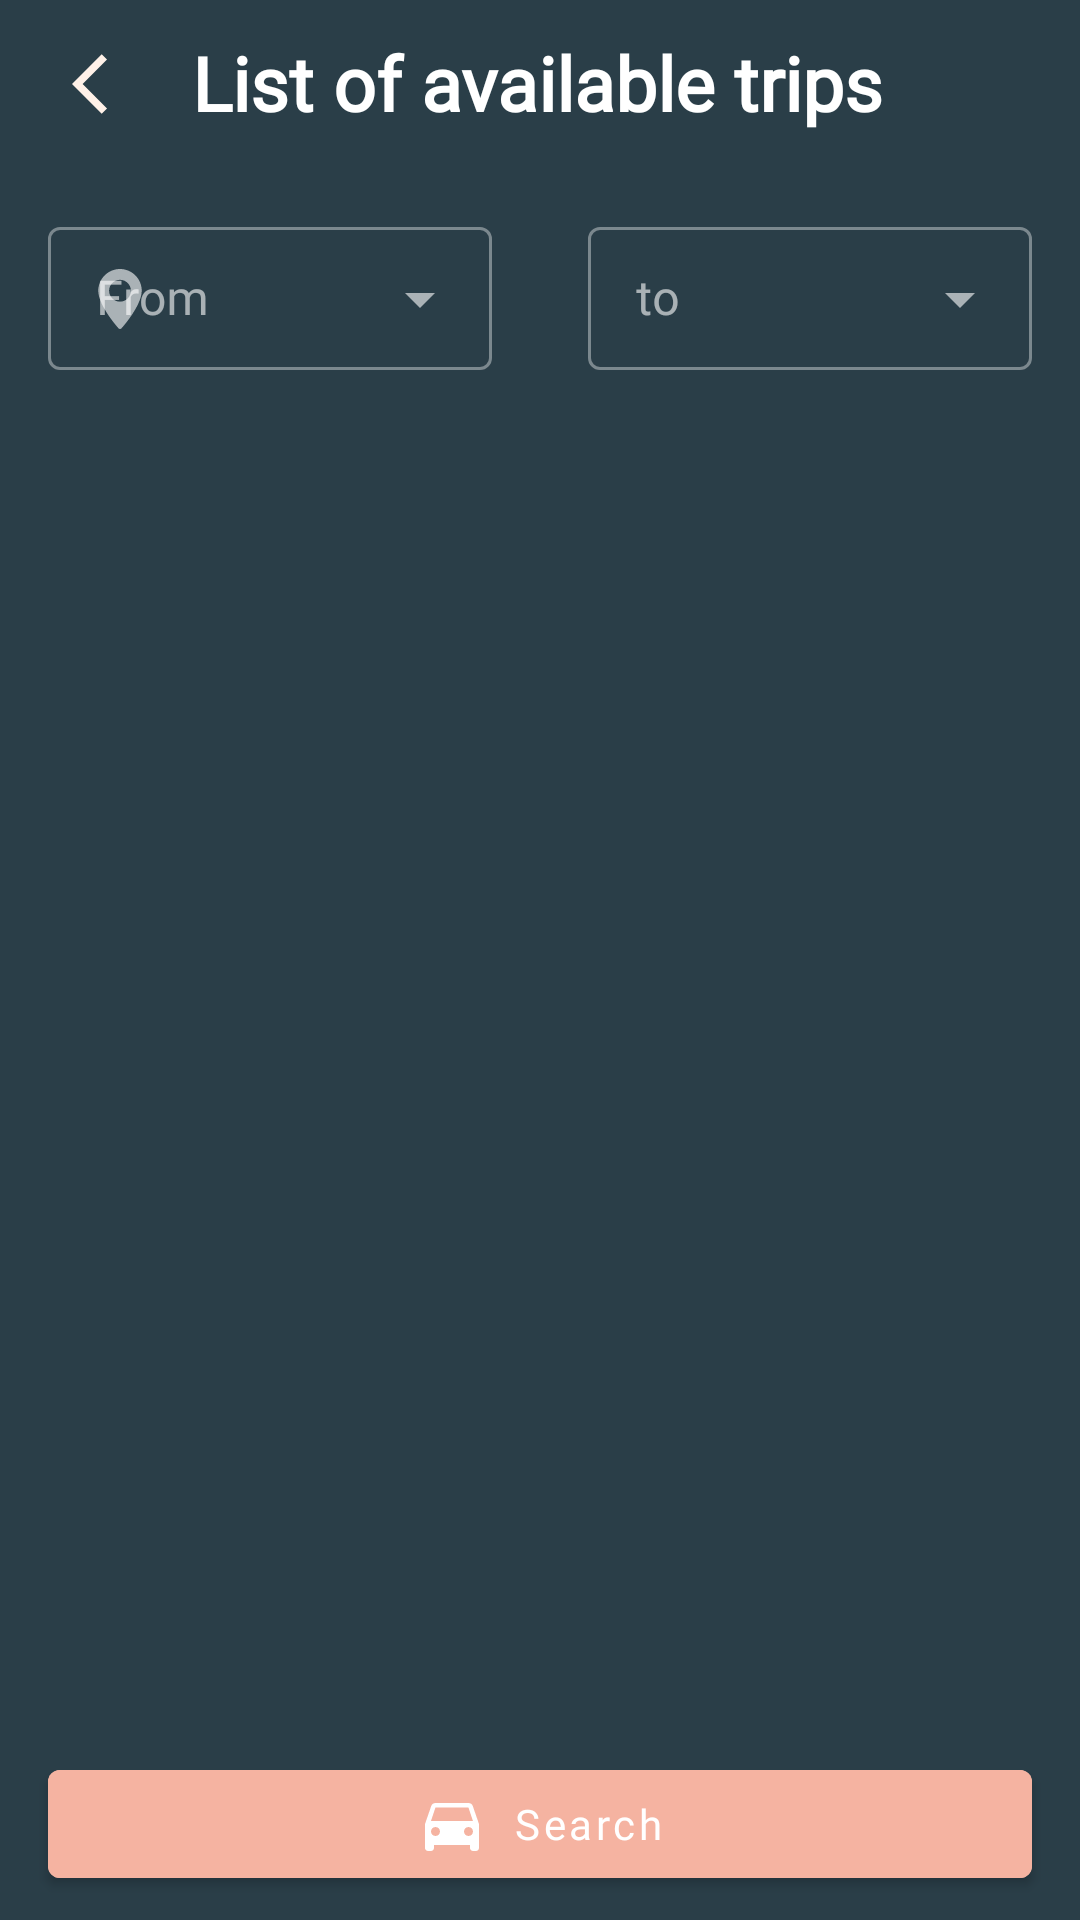

Where icons sit on this 1080×1920 app screen, as (left=x1, top=y1, right=x2, bottom=y2):
back: (left=72, top=54, right=107, bottom=114)
